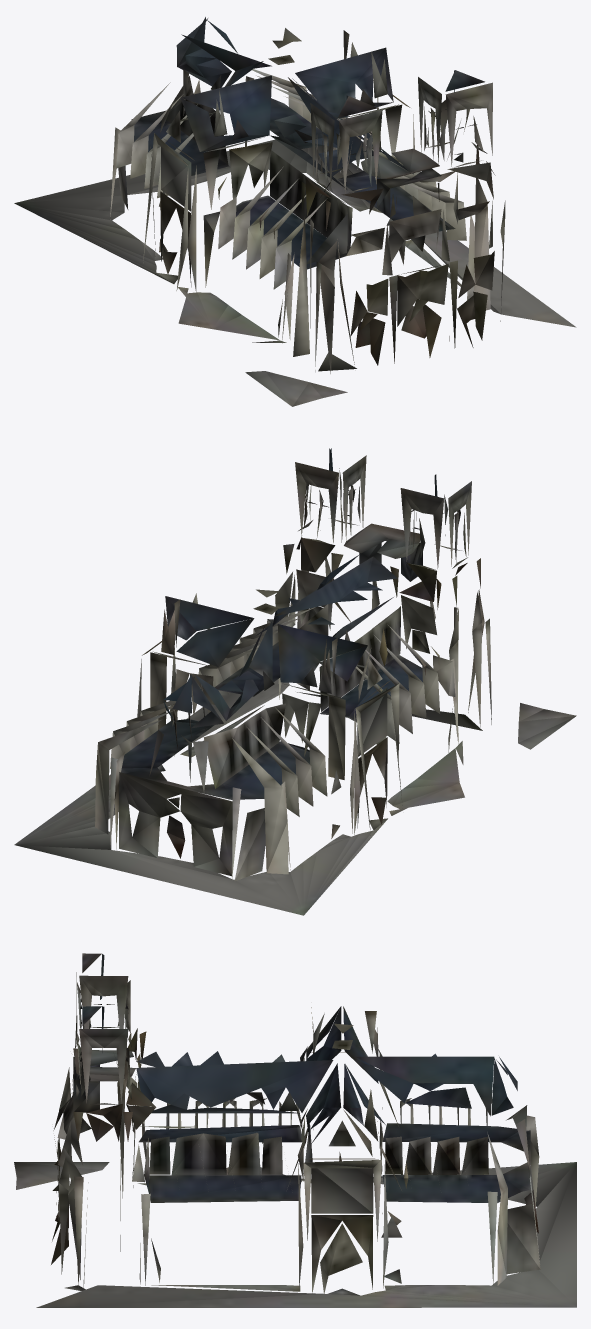
Rendered from first.glb.
The picture shows the model from 3 angles, top to bottom: view 1: azimuth 30°, elevation 25°; view 2: azimuth 150°, elevation 25°; view 3: azimuth 270°, elevation 25°; orthographic projection. The views are drawn at different scales.
Parts seen in each view (by area): view 1: tripo_node_77146c08-62a1-4bbc-b234-c12f6; view 2: tripo_node_77146c08-62a1-4bbc-b234-c12f6; view 3: tripo_node_77146c08-62a1-4bbc-b234-c12f6.
Part boxes in pixels (x1,y1,x2,y2): tripo_node_77146c08-62a1-4bbc-b234-c12f6: (14,17,576,406); tripo_node_77146c08-62a1-4bbc-b234-c12f6: (14,448,576,915); tripo_node_77146c08-62a1-4bbc-b234-c12f6: (14,953,576,1307).
Bounding box in the file's own units: 57.78 × 50.6 × 94.34.
Materials: 1 (1 with a texture image).
